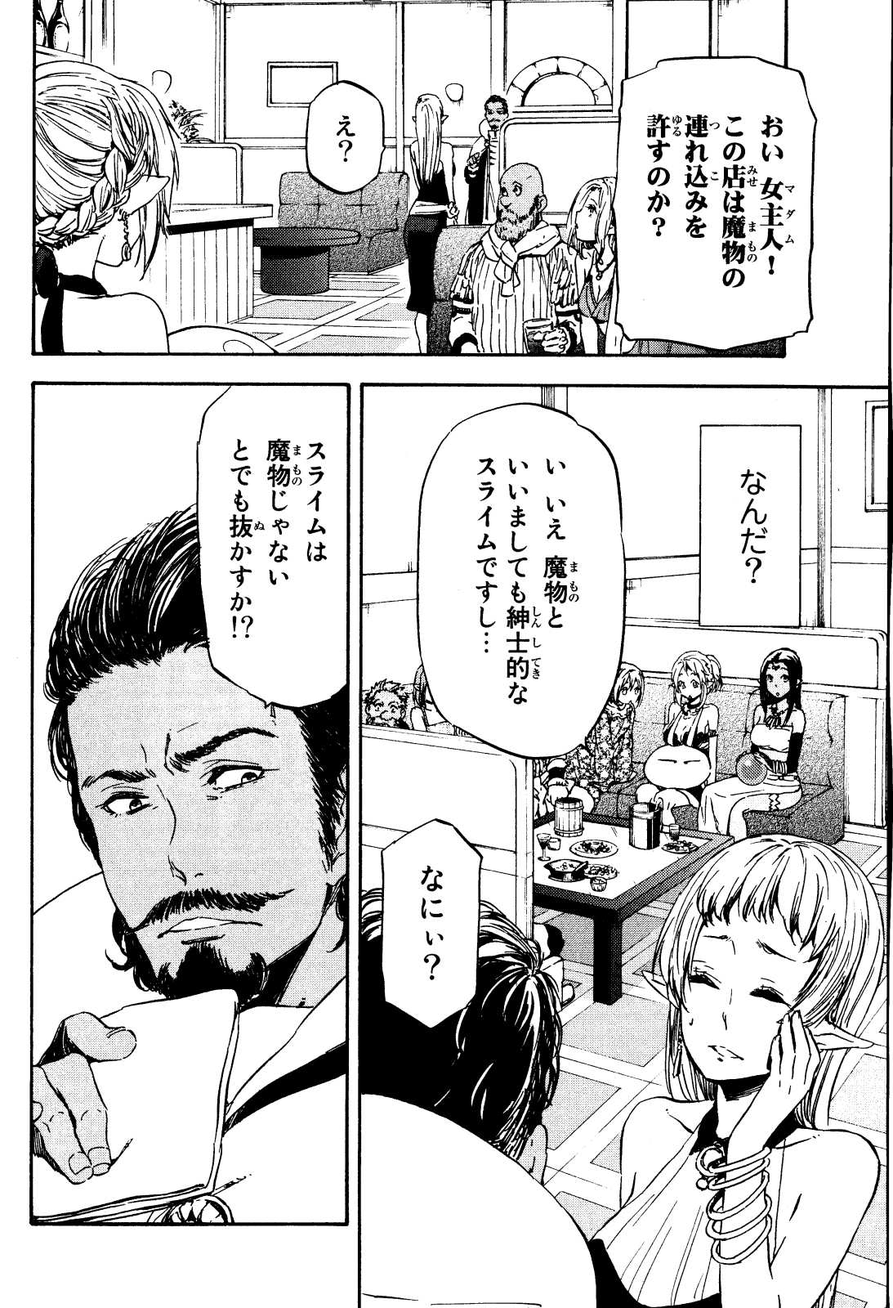bubbles: (412, 400, 631, 764), (608, 52, 817, 350), (187, 383, 346, 719), (376, 815, 489, 1037), (694, 419, 805, 638), (301, 76, 390, 197)
